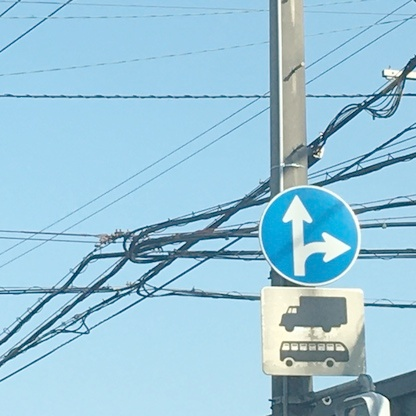Direction_sign: (262, 180, 369, 292)
